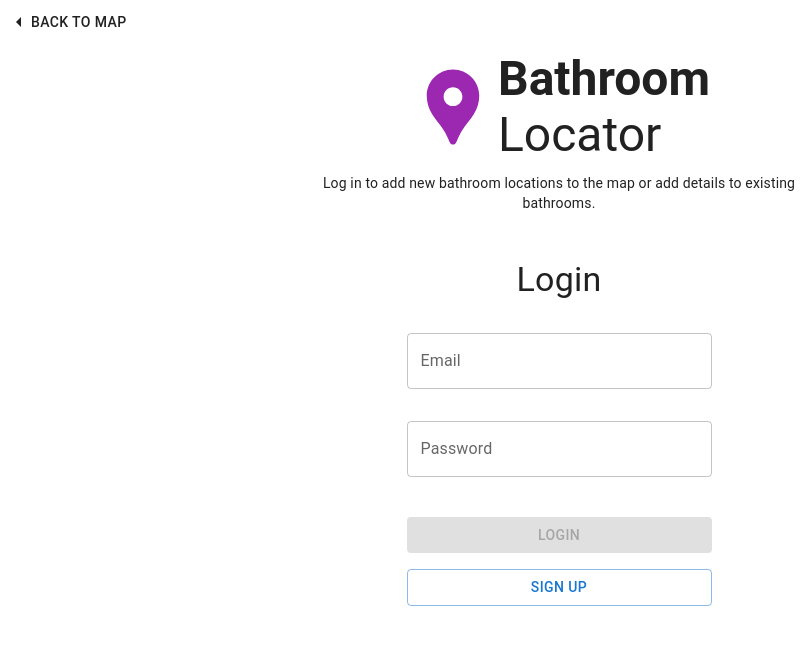
it: Login failed with invalid credentials › shows an error message
The image size is (811, 671).
Type "test@example.com" into the field labelled "Email" at (559, 360), box [406,332,712,388]
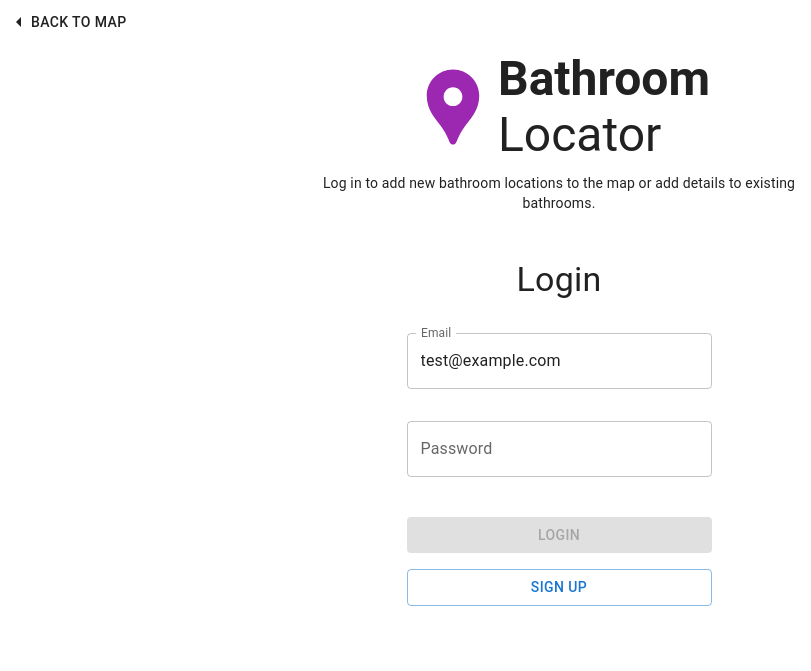
Type "password123" into the password field labelled "Password" at (559, 448), box [406,420,712,476]
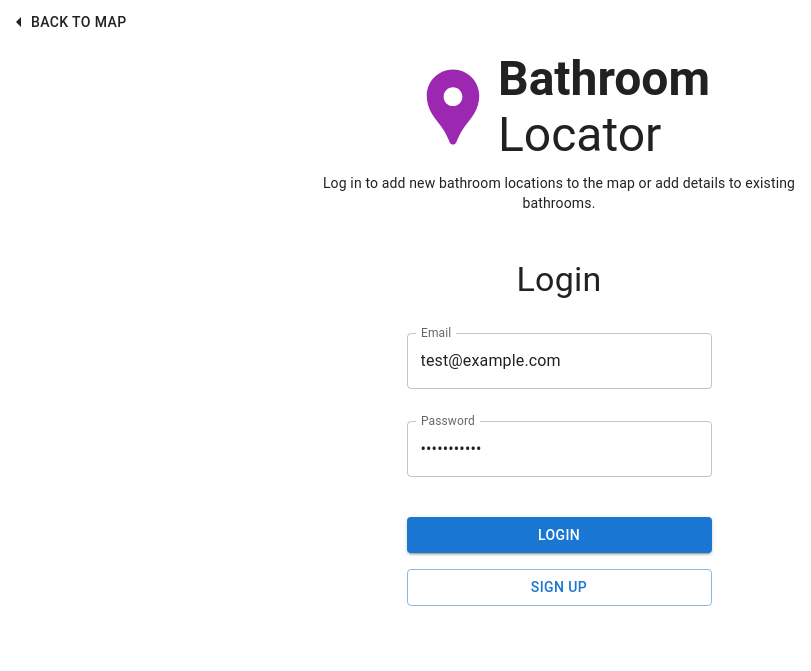
Click the button "Login" at (559, 535), box [406,516,712,553]
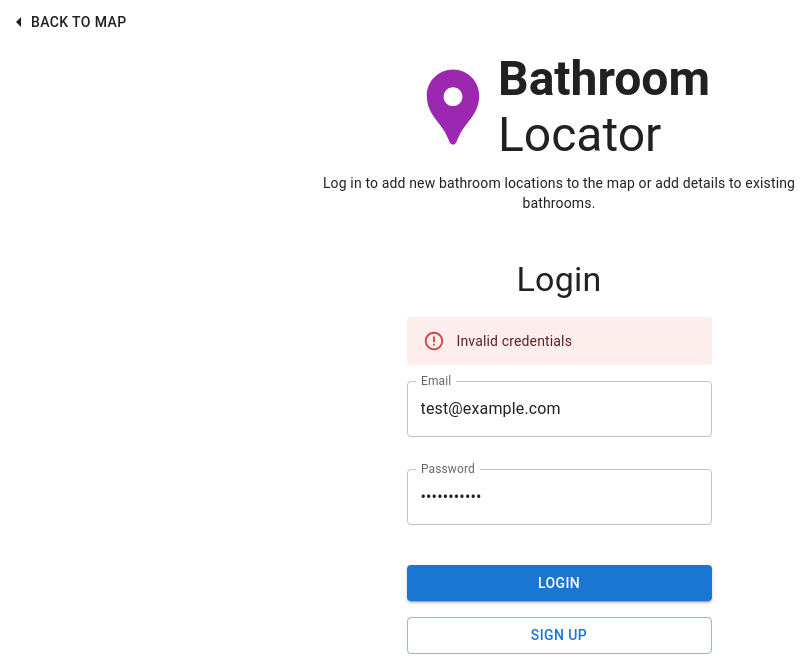
Result: the message reads "Invalid credentials" at [456,332,572,348]
